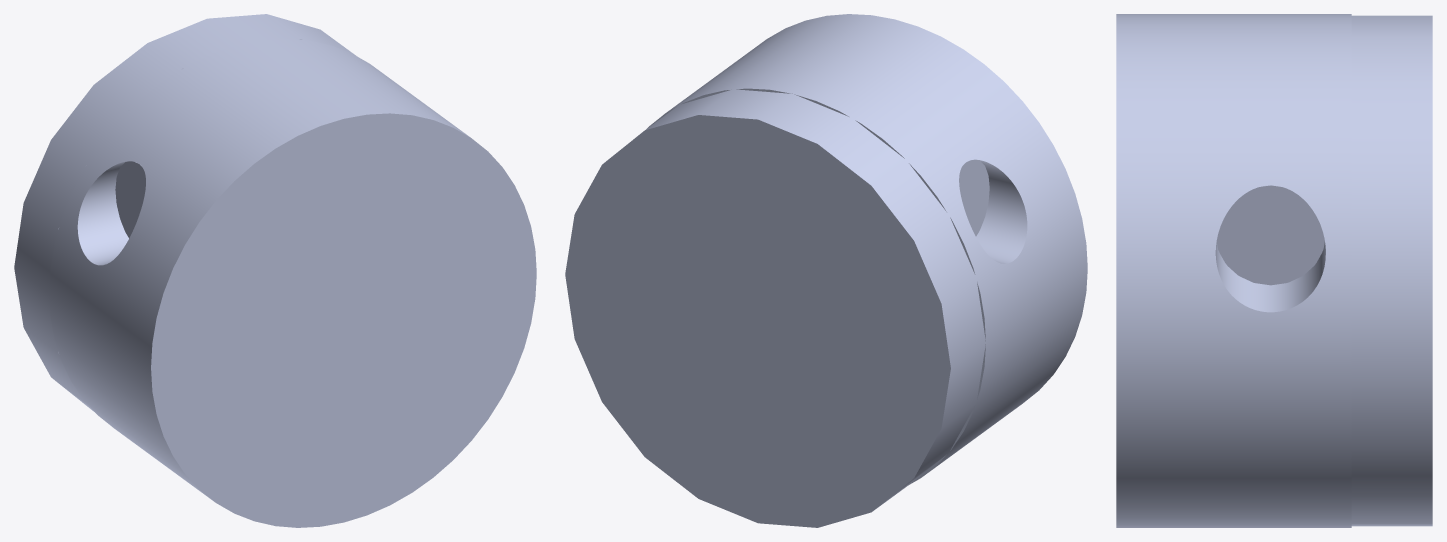
Rendered from AH_support.dae.
3 renders of one model, left to right at view 1: azimuth 30°, elevation 25°; view 2: azimuth 150°, elevation 25°; view 3: azimuth 270°, elevation 25°, orthographic. The views are drawn at different scales.
Visible parts, largest first — view 1: Node_0x55d8555ba240, Node_0x55d8555ba6c0, Node_0x55d8555bab40; view 2: Node_0x55d8555ba6c0, Node_0x55d8555ba240, Node_0x55d8555bab40; view 3: Node_0x55d8555ba240, Node_0x55d8555ba6c0, Node_0x55d8555bab40.
Boxes of the visible parts, box(x1,y1,x2,y2) form: Node_0x55d8555ba240: box(49, 39, 536, 527); Node_0x55d8555ba6c0: box(14, 14, 355, 411); Node_0x55d8555bab40: box(115, 161, 145, 238); Node_0x55d8555ba6c0: box(565, 89, 985, 527); Node_0x55d8555ba240: box(647, 14, 1087, 485); Node_0x55d8555bab40: box(959, 159, 989, 236); Node_0x55d8555ba240: box(1116, 14, 1351, 527); Node_0x55d8555ba6c0: box(1351, 15, 1432, 526); Node_0x55d8555bab40: box(1216, 185, 1324, 285).
Size of the model in its own units: 0.07 by 0.07 by 0.043.
